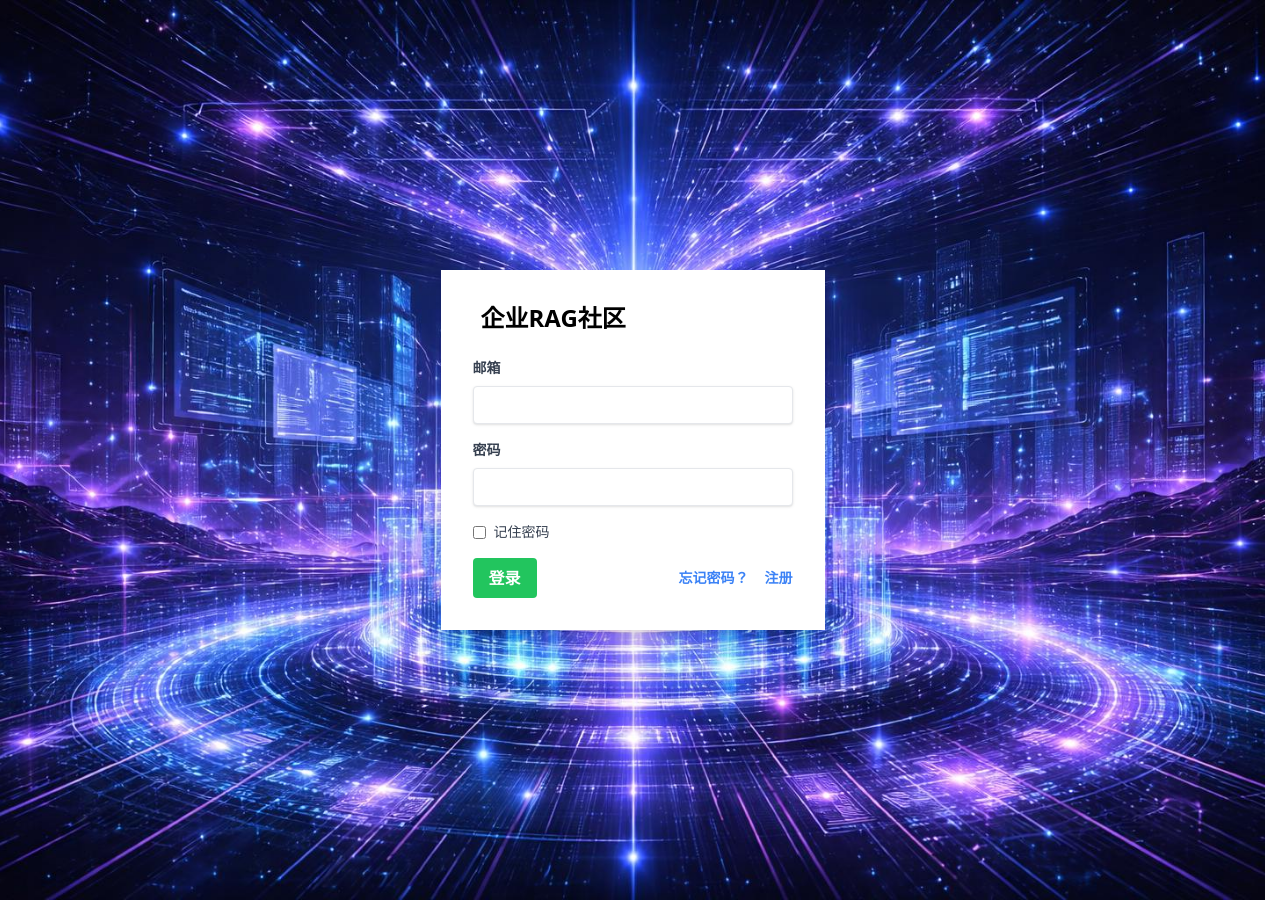
Scenario: Login › blocks submit when csrf token is missing
In the field labelled "邮箱": (632, 405) [472,386,792,424], type "test@example.com"
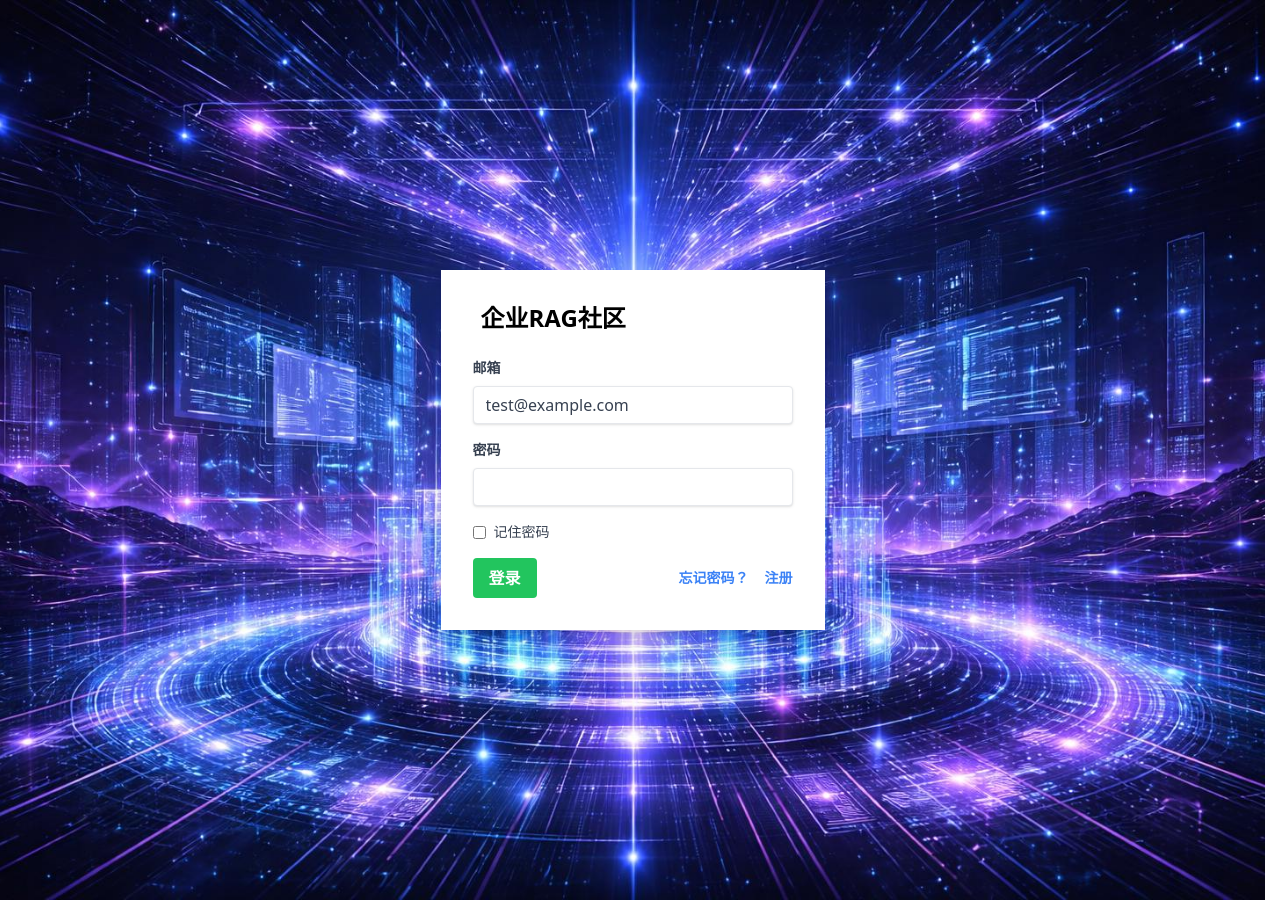
In the password field labelled "密码": (632, 487) [472,468,792,506], type "123456"
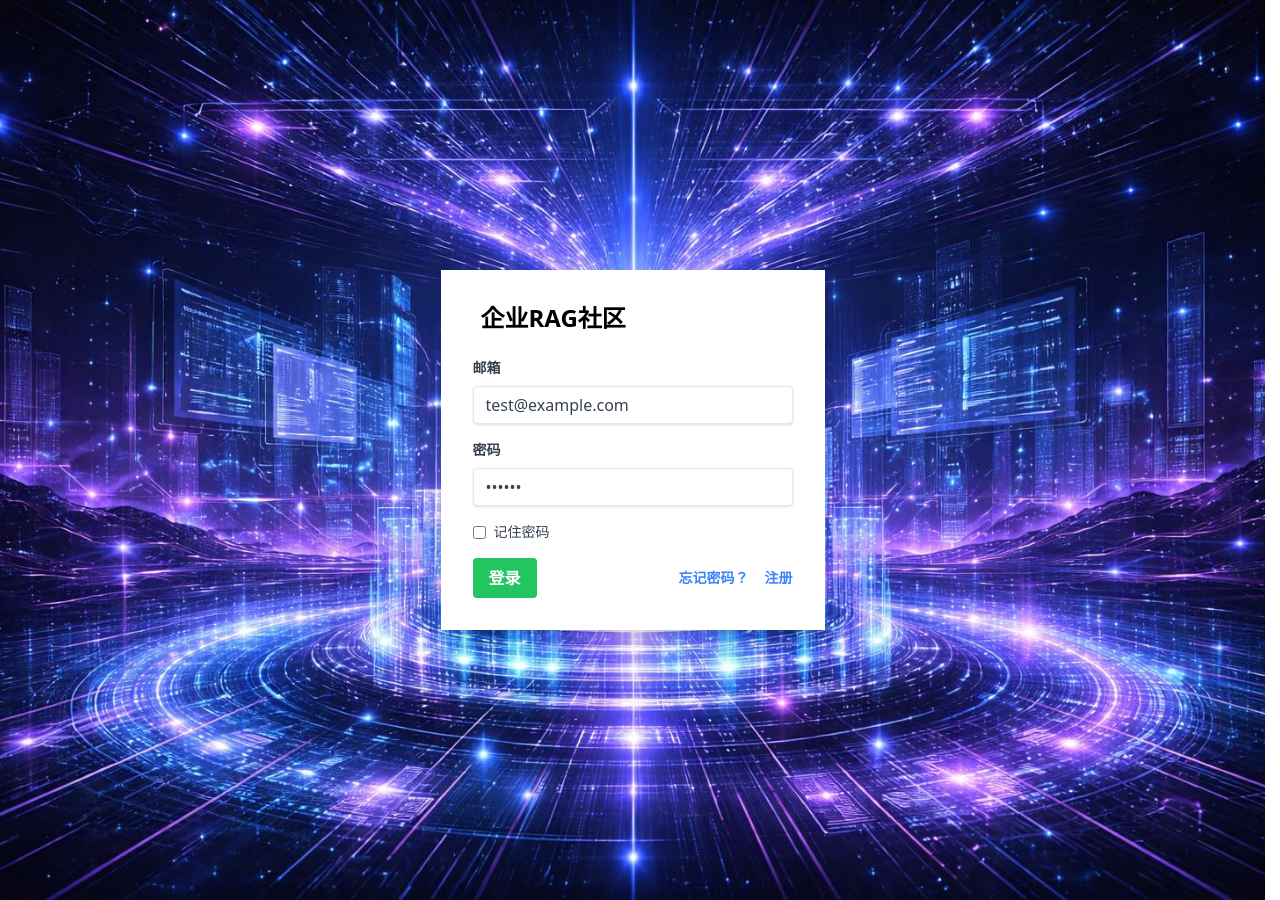
Click the button "登录": (504, 578) [472,558,536,598]
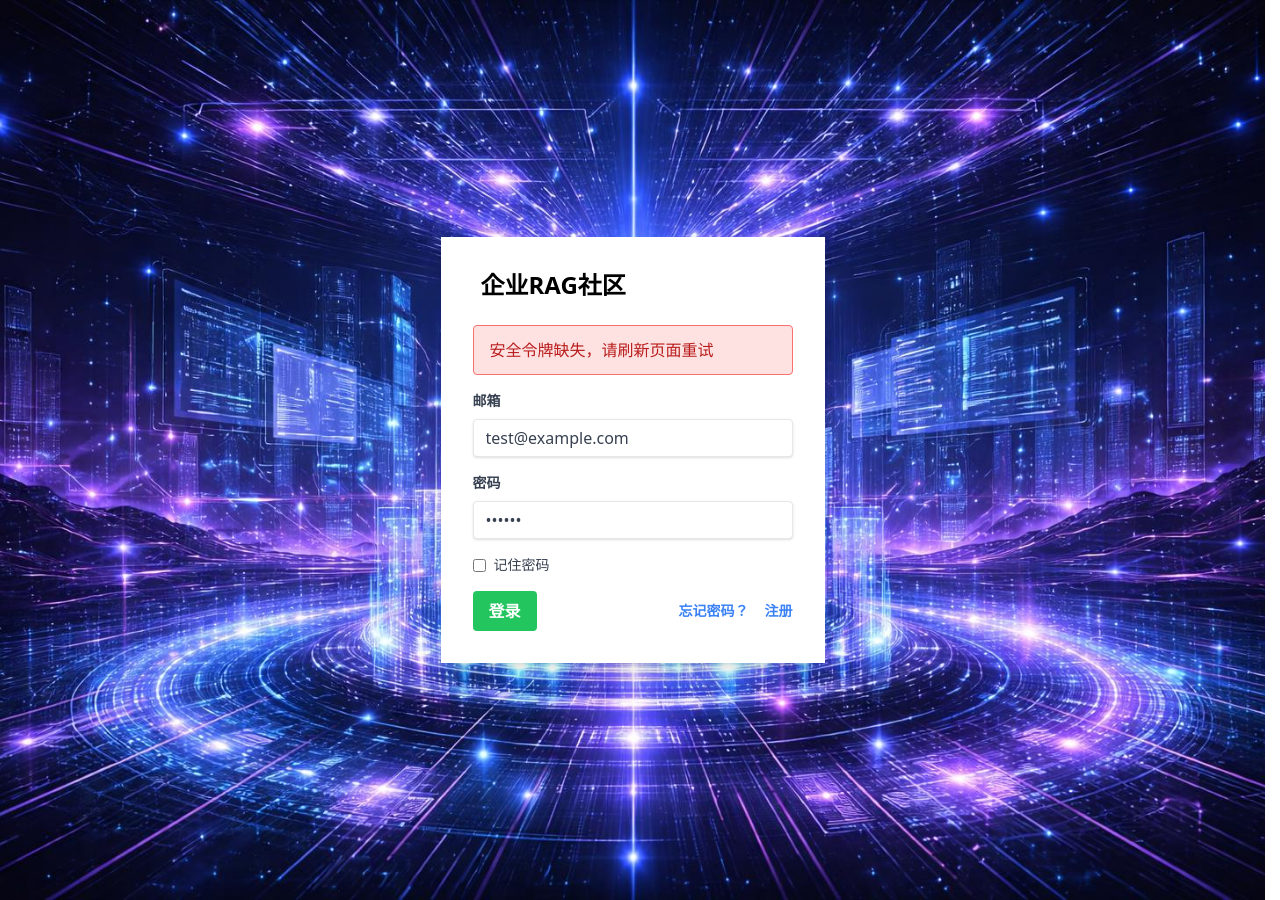
Expected: the text "安全令牌缺失，请刷新页面重试" is shown, [472,325,792,375]
